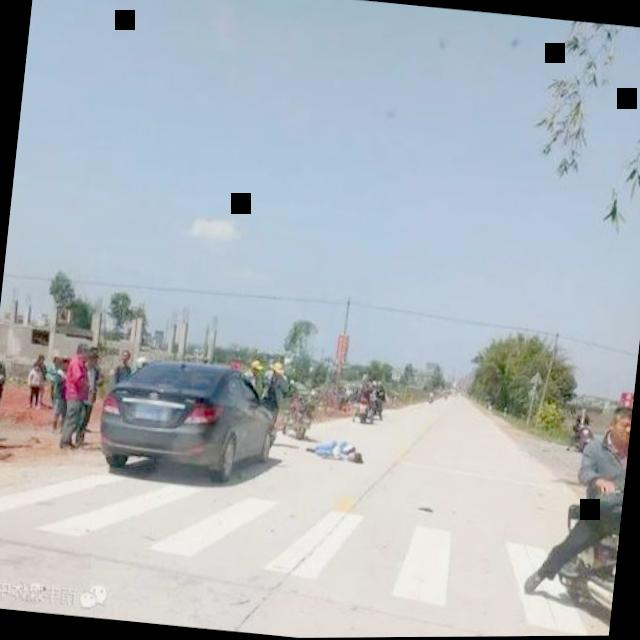Fall-Detected: (304, 425, 370, 466)
